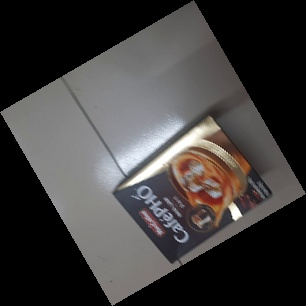CF pho: (110, 110, 273, 266)
